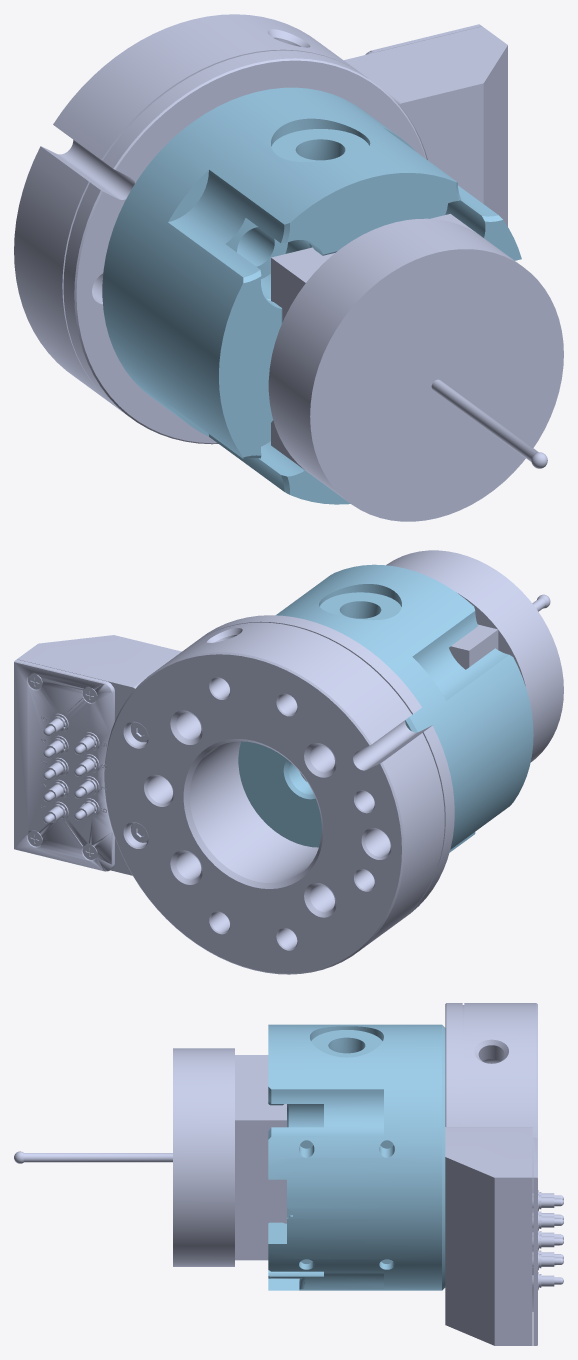
Rendered from touch_p0.glb.
3 renders of one model, top to bottom at view 1: azimuth 30°, elevation 25°; view 2: azimuth 150°, elevation 25°; view 3: azimuth 270°, elevation 25°, orthographic. The views are drawn at different scales.
Visible parts, largest first — view 1: g1, g0; view 2: g1, g0; view 3: g1, g0.
Boxes of the visible parts, x1,y1,x2,y2 form: g1: (14,14,563,521); g0: (102,87,521,504); g1: (14,550,563,974); g0: (238,564,533,852); g1: (14,1003,563,1345); g0: (268,1024,445,1290).
Size of the model in its own units: 0.0649 by 0.05 by 0.0889.
